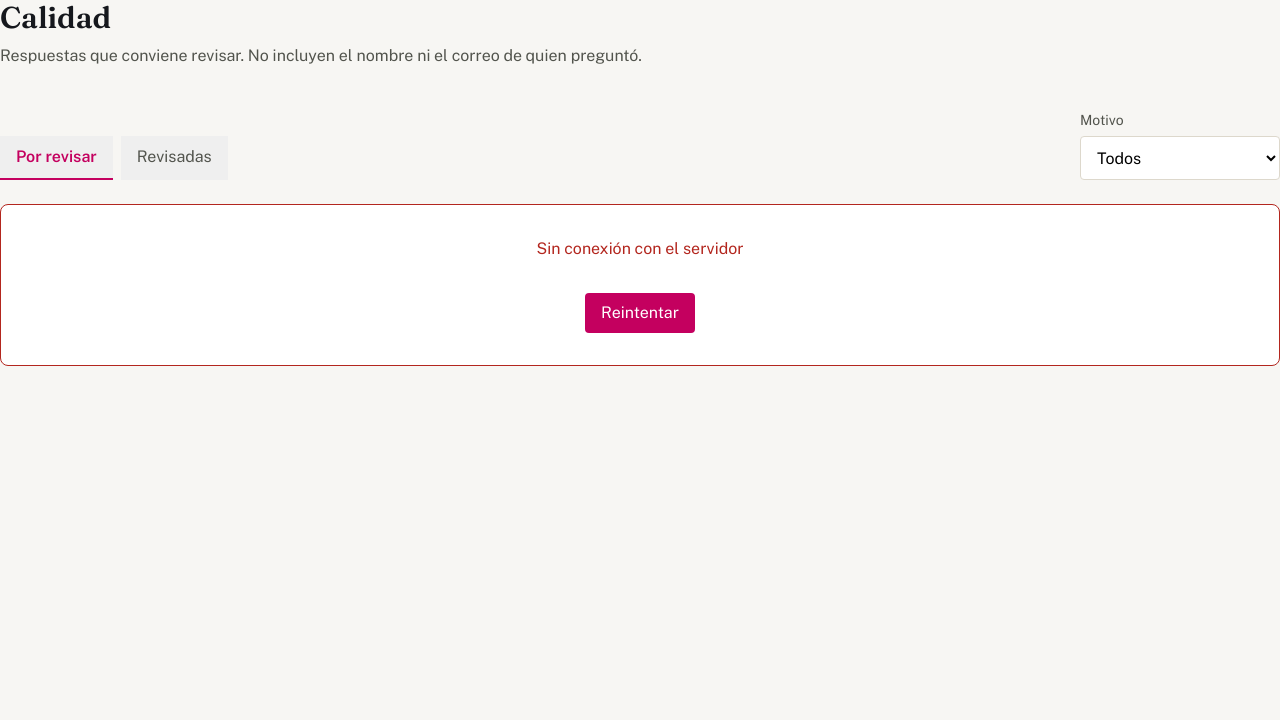
it: Calidad › error con Reintentar
Expected: the message shows "Sin conexión con el servidor", x1=536 y1=239 x2=744 y2=258
Click the button "Reintentar": [640, 313] box x1=585 y1=293 x2=695 y2=333
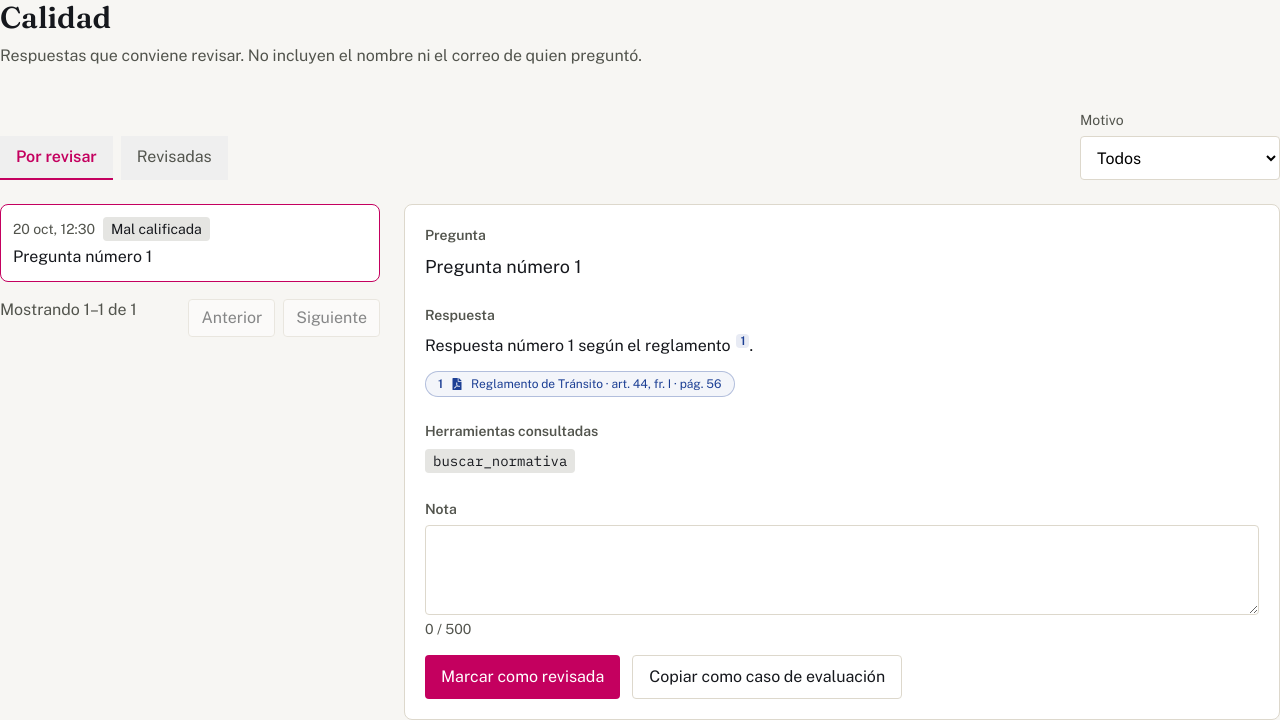
Expected: the button "20 oct, 12:30 Mal calificada Pregunta número 1" is shown, x1=0 y1=204 x2=380 y2=282
